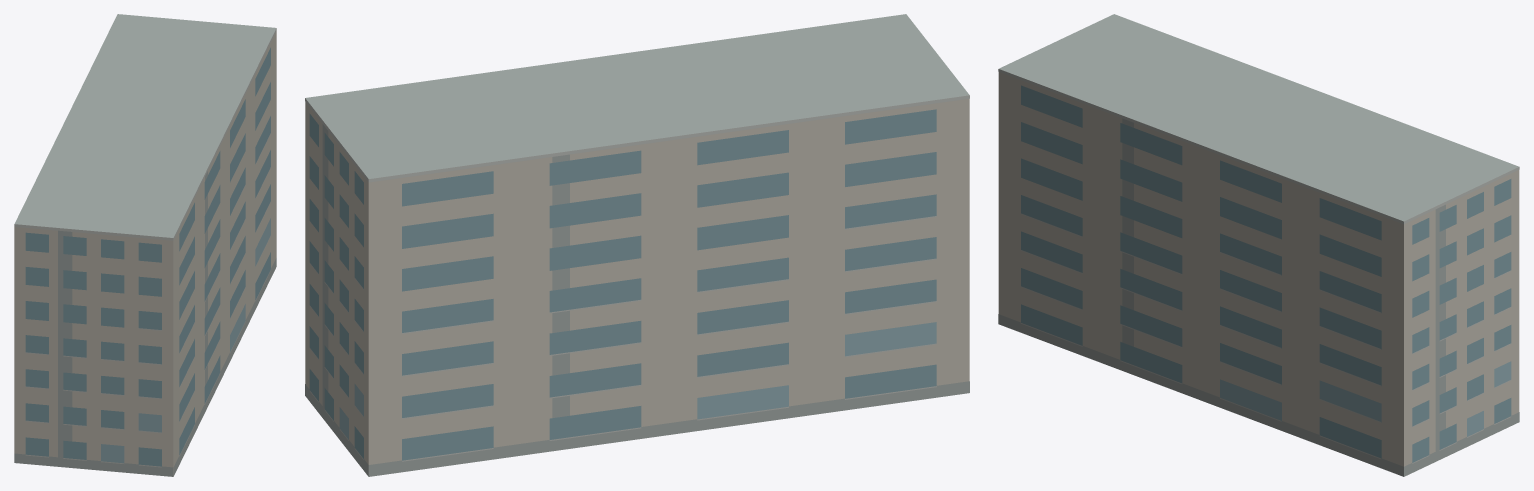
File: residential-3d53c097-a3d2-4ce9-8c54-2b968d518317.glb
The picture shows the model from 3 angles, left to right: view 1: azimuth 30°, elevation 25°; view 2: azimuth 150°, elevation 25°; view 3: azimuth 270°, elevation 25°; orthographic projection. The views are drawn at different scales.
Visible parts, largest first — view 1: residential-3d53c097-a3d2-4ce9-8c54-2b968d518317.tmp; view 2: residential-3d53c097-a3d2-4ce9-8c54-2b968d518317.tmp; view 3: residential-3d53c097-a3d2-4ce9-8c54-2b968d518317.tmp.
Part boxes in pixels (x1,y1,x2,y2): residential-3d53c097-a3d2-4ce9-8c54-2b968d518317.tmp: [14, 14, 276, 476]; residential-3d53c097-a3d2-4ce9-8c54-2b968d518317.tmp: [305, 14, 969, 476]; residential-3d53c097-a3d2-4ce9-8c54-2b968d518317.tmp: [998, 14, 1519, 476].
Bounding box in the file's own units: 37.21 × 21.35 × 39.47.
